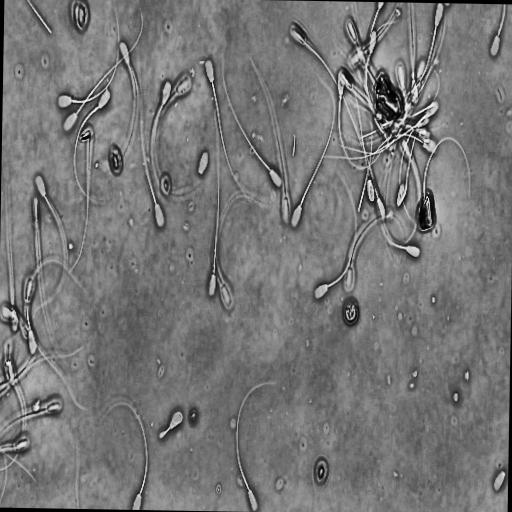coiled-tail: (159, 425, 171, 440)
dirt-particles: (373, 64, 407, 127), (416, 186, 436, 237), (67, 0, 93, 37), (341, 294, 361, 330), (108, 145, 124, 179), (159, 172, 172, 197), (315, 460, 327, 483), (188, 408, 198, 425)
folded-tail: (398, 120, 424, 205)
loose-head: (194, 142, 211, 183), (493, 470, 506, 492)
normal: (60, 7, 145, 140), (289, 22, 366, 160), (220, 43, 286, 192), (201, 55, 259, 206), (288, 76, 338, 235), (54, 3, 121, 114), (150, 79, 205, 206), (313, 166, 360, 304), (25, 257, 91, 355), (234, 375, 280, 512), (138, 44, 167, 230), (31, 173, 67, 320), (72, 85, 114, 207), (337, 70, 386, 171), (107, 400, 148, 510), (404, 3, 444, 108), (352, 76, 375, 203), (396, 116, 424, 208), (207, 131, 221, 302), (156, 407, 186, 444)
